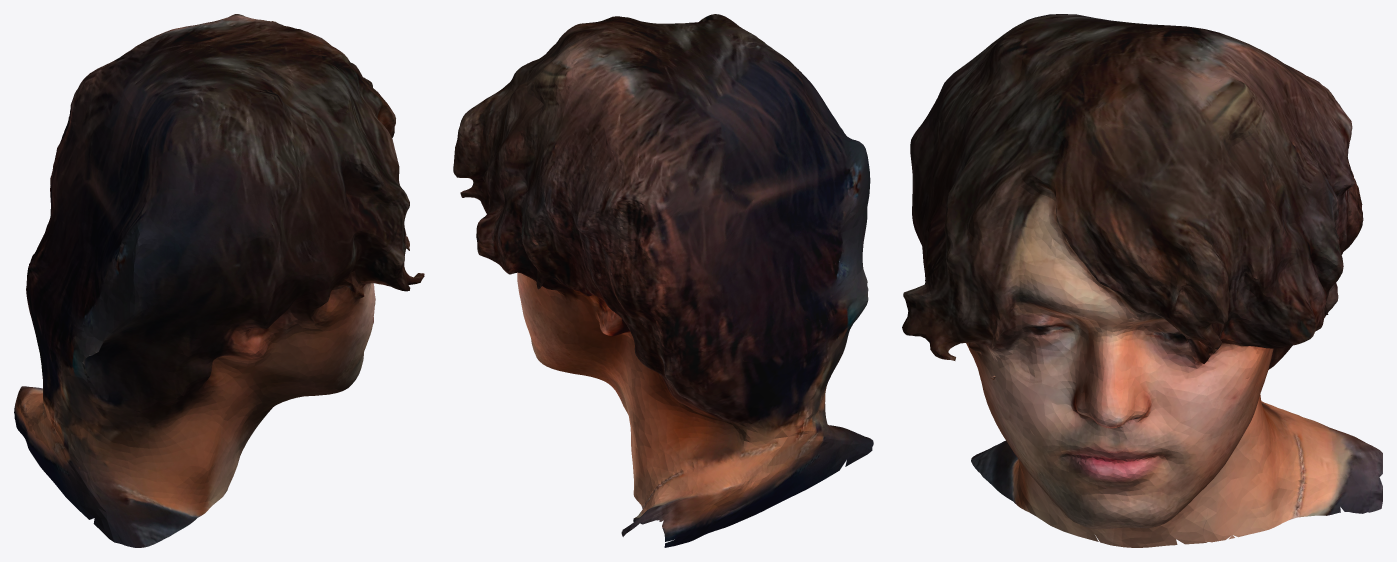
File: HEAD.glb
3 views of the same model, side by side, from view 1: azimuth 30°, elevation 25°; view 2: azimuth 150°, elevation 25°; view 3: azimuth 270°, elevation 25° (orthographic). The views are drawn at different scales.
Size of the model in its own units: 0.5809 by 0.6595 by 0.5576.
1 material, 1 textured.
